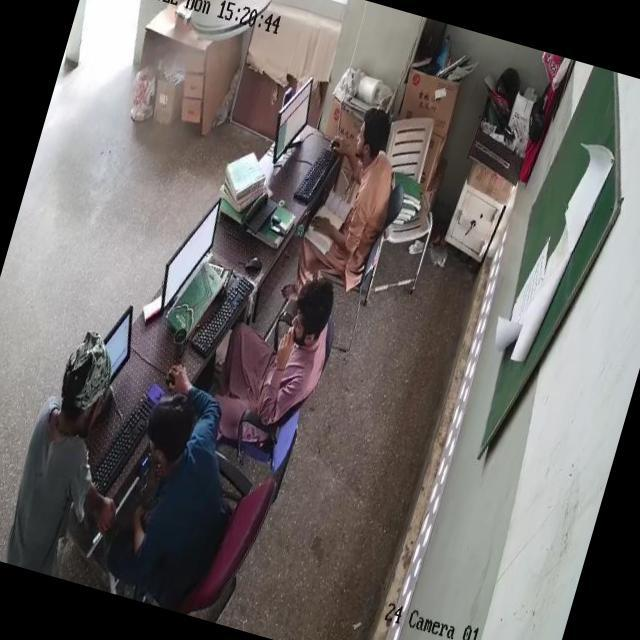person: (108, 362, 260, 592), (0, 332, 118, 576), (206, 262, 337, 449), (302, 104, 404, 287)
